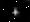person: (13, 8, 21, 19)
